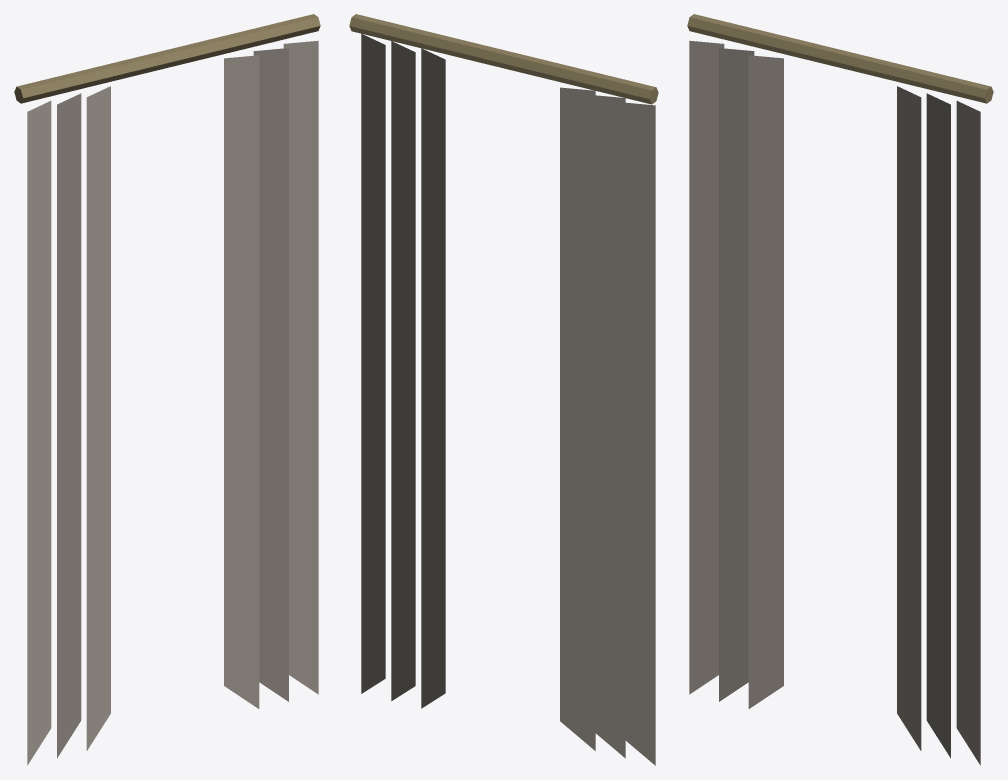
Rendered from curtain_half_open.glb.
The picture shows the model from 3 angles, left to right: view 1: azimuth 30°, elevation 25°; view 2: azimuth 150°, elevation 25°; view 3: azimuth 330°, elevation 25°; orthographic projection.
Parts seen in each view (by area): view 1: curtain_half_open; view 2: curtain_half_open; view 3: curtain_half_open.
Boxes of the visible parts, x1,y1,x2,y2 form: curtain_half_open: (14, 14, 320, 765); curtain_half_open: (349, 14, 658, 765); curtain_half_open: (687, 14, 993, 765).
Size of the model in its own units: 0.6 by 1.3 by 0.035.
